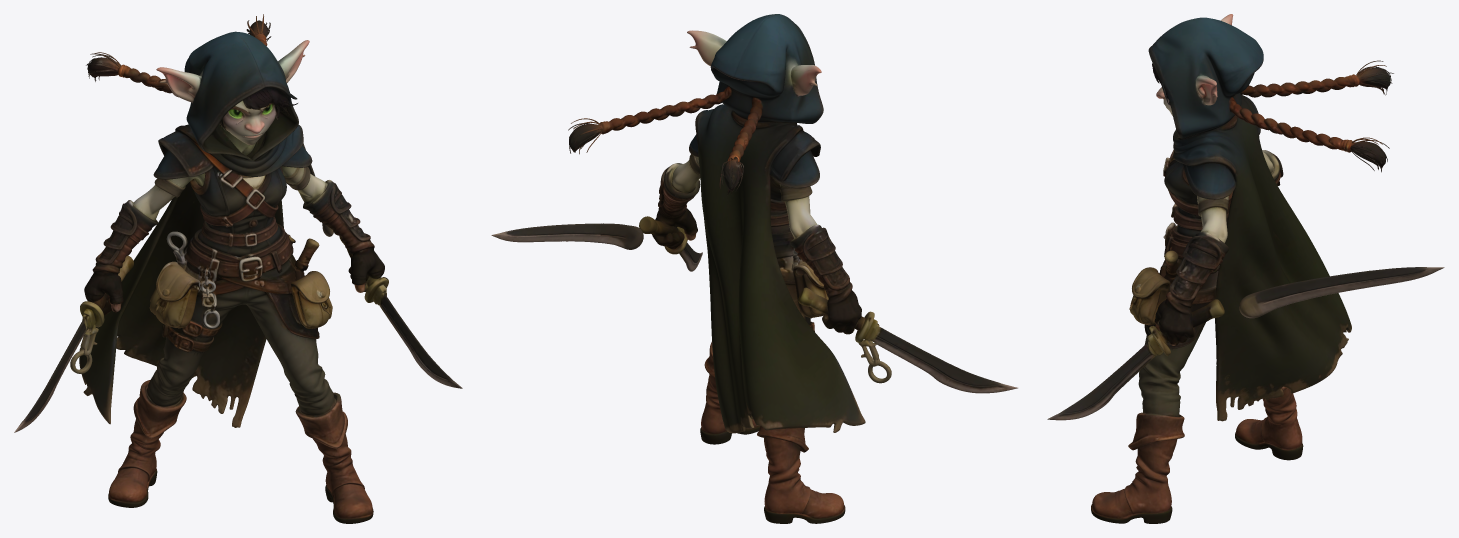
Rendered from halfling_rogue_full_female_01.glb.
The picture shows the model from 3 angles, left to right: view 1: azimuth 30°, elevation 25°; view 2: azimuth 150°, elevation 25°; view 3: azimuth 270°, elevation 25°; orthographic projection.
Parts seen in each view (by area): view 1: material; view 2: material; view 3: material.
Part boxes in pixels (<box>): material: <box>14,14,462,523</box>; material: <box>491,14,1017,523</box>; material: <box>1047,14,1444,523</box>.
Size of the model in its own units: 0.8504 by 0.9472 by 0.7359.
Materials: 1 (1 with a texture image).
